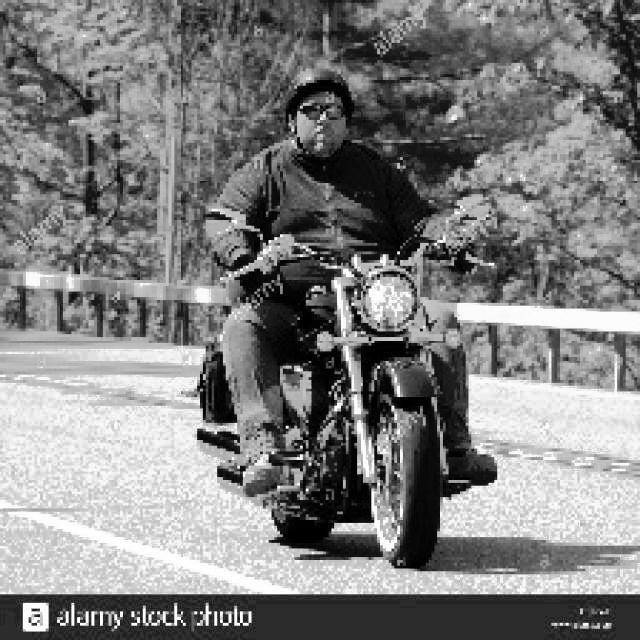Bike: (258, 266, 438, 568)
